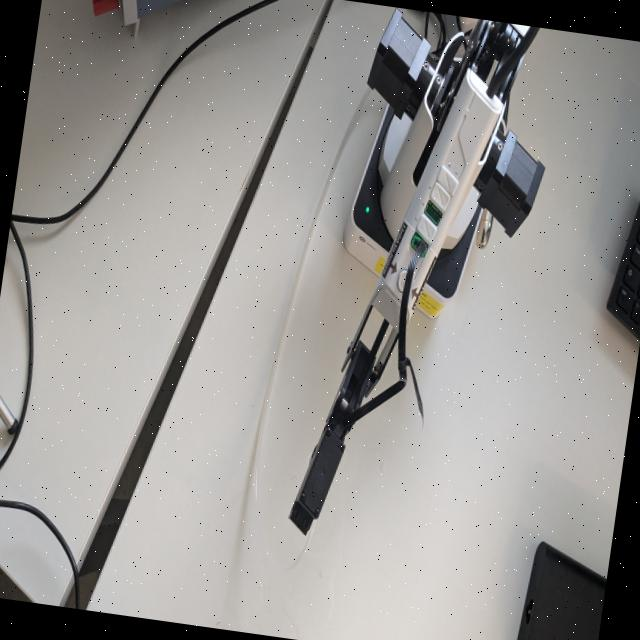Robot-end-effector-HF8z: (281, 420, 353, 546)
